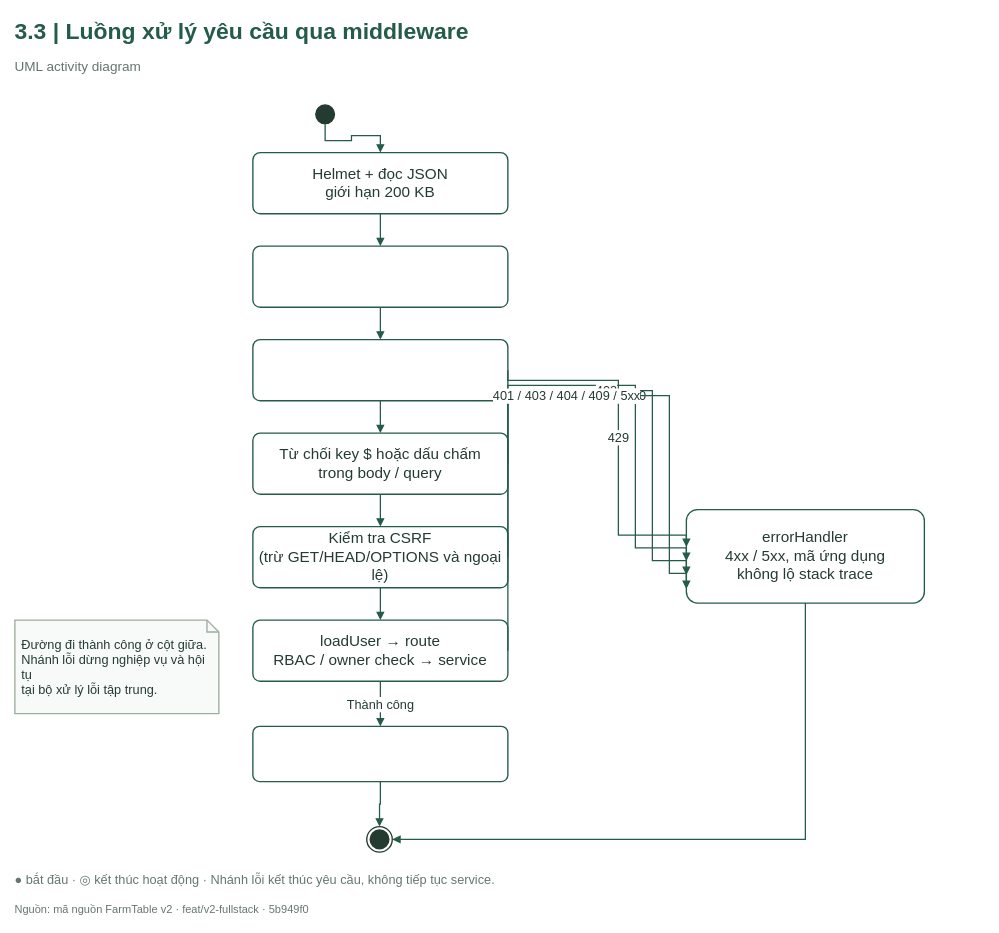
Some shapes in this 999 by 933 pixel diagram are drawn without their labels. The centre of each missing label's shape, as x and y in pixels:
"API rate limit /api/v1" belongs at pixel 380 369.
"JSON thành công 2xx" belongs at pixel 380 753.
"Nạp / tạo session MongoStore" belongs at pixel 380 276.
